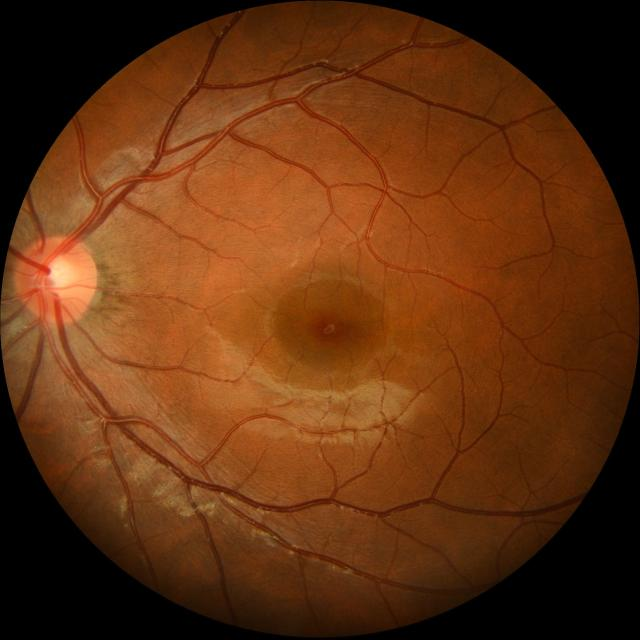OC: (39, 259, 74, 297)
OD: (16, 235, 96, 322)
